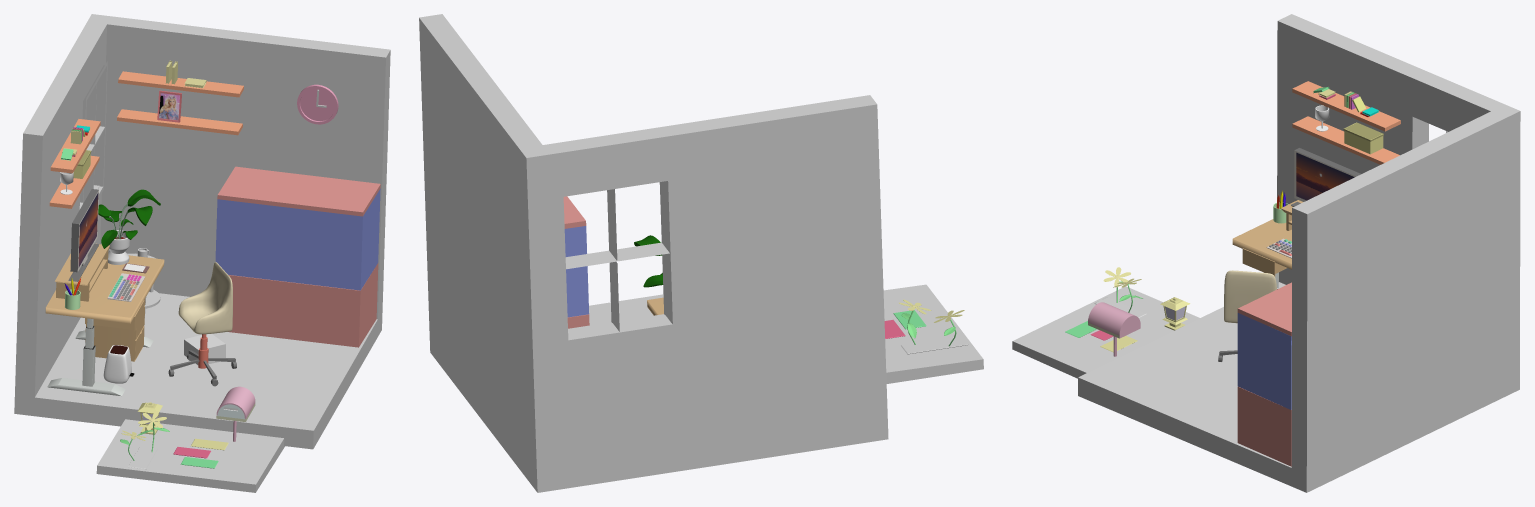
Rendered from NoAnimroom.glb.
3 renders of one model, left to right at view 1: azimuth 30°, elevation 25°; view 2: azimuth 150°, elevation 25°; view 3: azimuth 270°, elevation 25°, orthographic. The views are drawn at different scales.
Parts seen in each view (by area): view 1: Cube.001, Cube.002, fish tank, Cube.021, Table top, chair seat, Plane, shelf1.001, shelf1.002, computer table, Cylinder.010, computer (+15 smaller); view 2: Cube.001, Cube.021, Plane, fish tank, Cube.002, Plane.006; view 3: Cube.001, Cube.021, Cube.002, fish tank, chair seat, computer.001, Table top, shelf2, Cylinder.013, shelf1, shelf3, Plane (+2 smaller).
Boxes of the visible parts, x1,y1,x2,y2 form: Cube.001: [14, 14, 390, 449]; Cube.002: [217, 166, 380, 347]; fish tank: [215, 188, 380, 290]; Cube.021: [96, 419, 284, 492]; Table top: [45, 255, 164, 323]; chair seat: [178, 262, 232, 334]; Plane: [80, 61, 107, 203]; shelf1.001: [117, 109, 242, 135]; shelf1.002: [118, 71, 243, 97]; computer table: [55, 243, 109, 301]; Cylinder.010: [297, 84, 338, 124]; computer: [68, 189, 99, 281]; Cube.001: [419, 14, 888, 492]; Cube.021: [883, 284, 983, 383]; Plane: [565, 181, 672, 331]; fish tank: [564, 226, 589, 317]; Cube.002: [563, 196, 589, 328]; Plane.006: [901, 336, 967, 354]; Cube.001: [1078, 14, 1520, 492]; Cube.021: [1012, 286, 1199, 378]; Cube.002: [1237, 282, 1291, 466]; fish tank: [1237, 313, 1291, 409]; chair seat: [1224, 270, 1276, 323]; computer.001: [1296, 152, 1354, 200]; Table top: [1232, 219, 1291, 269]; shelf2: [1292, 81, 1400, 131]; Cylinder.013: [1088, 302, 1140, 356]; shelf1: [1292, 116, 1399, 164]; shelf3: [1343, 122, 1383, 154]; Plane: [1410, 112, 1452, 150].
Bounding box in the file's own units: 28.87 × 20.91 × 32.43.
Materials: 56 (2 with a texture image).
